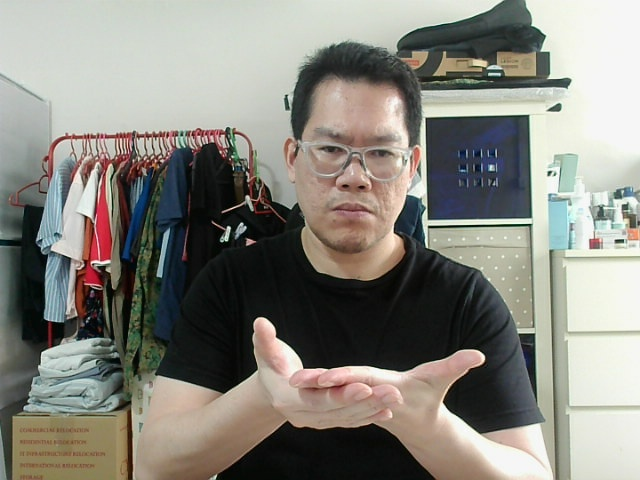good: (265, 334, 385, 428)
